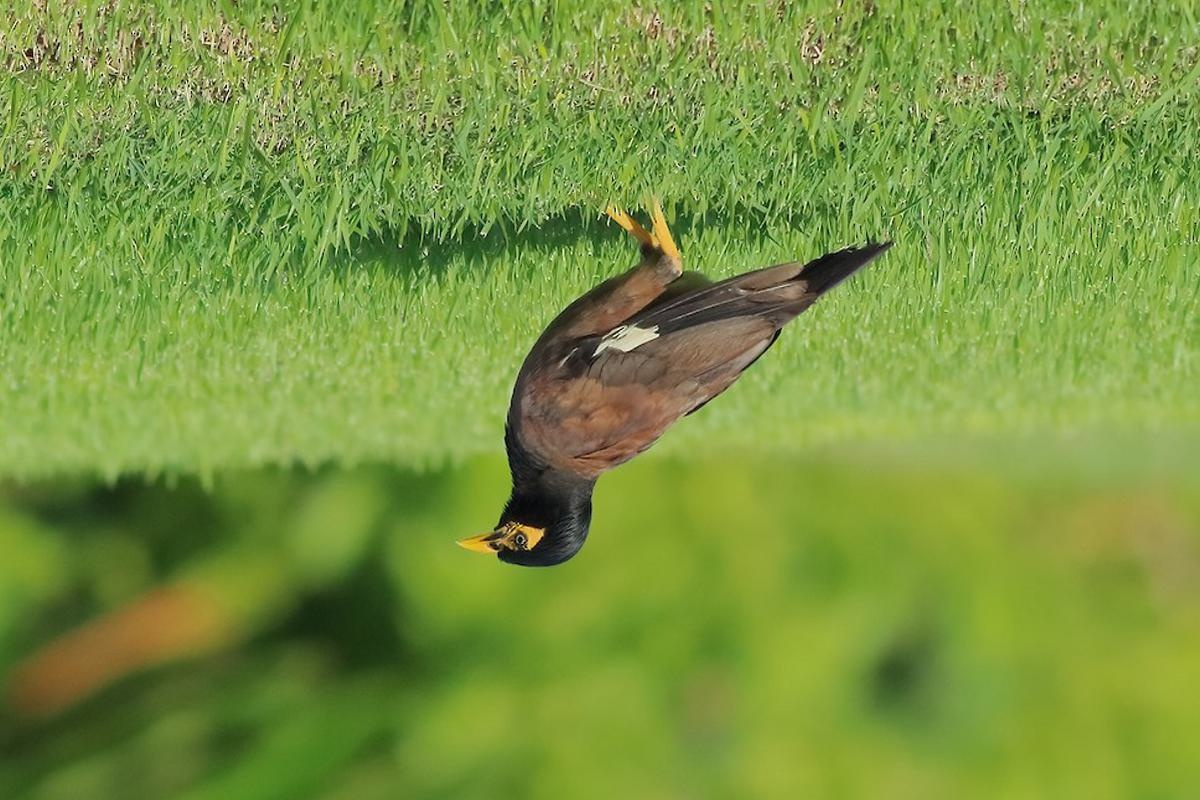myna: (443, 177, 858, 593)
